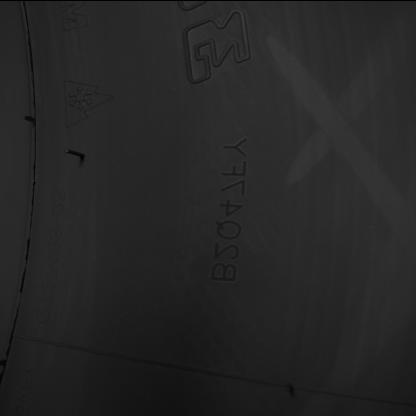ocr: (207, 133, 249, 281)
